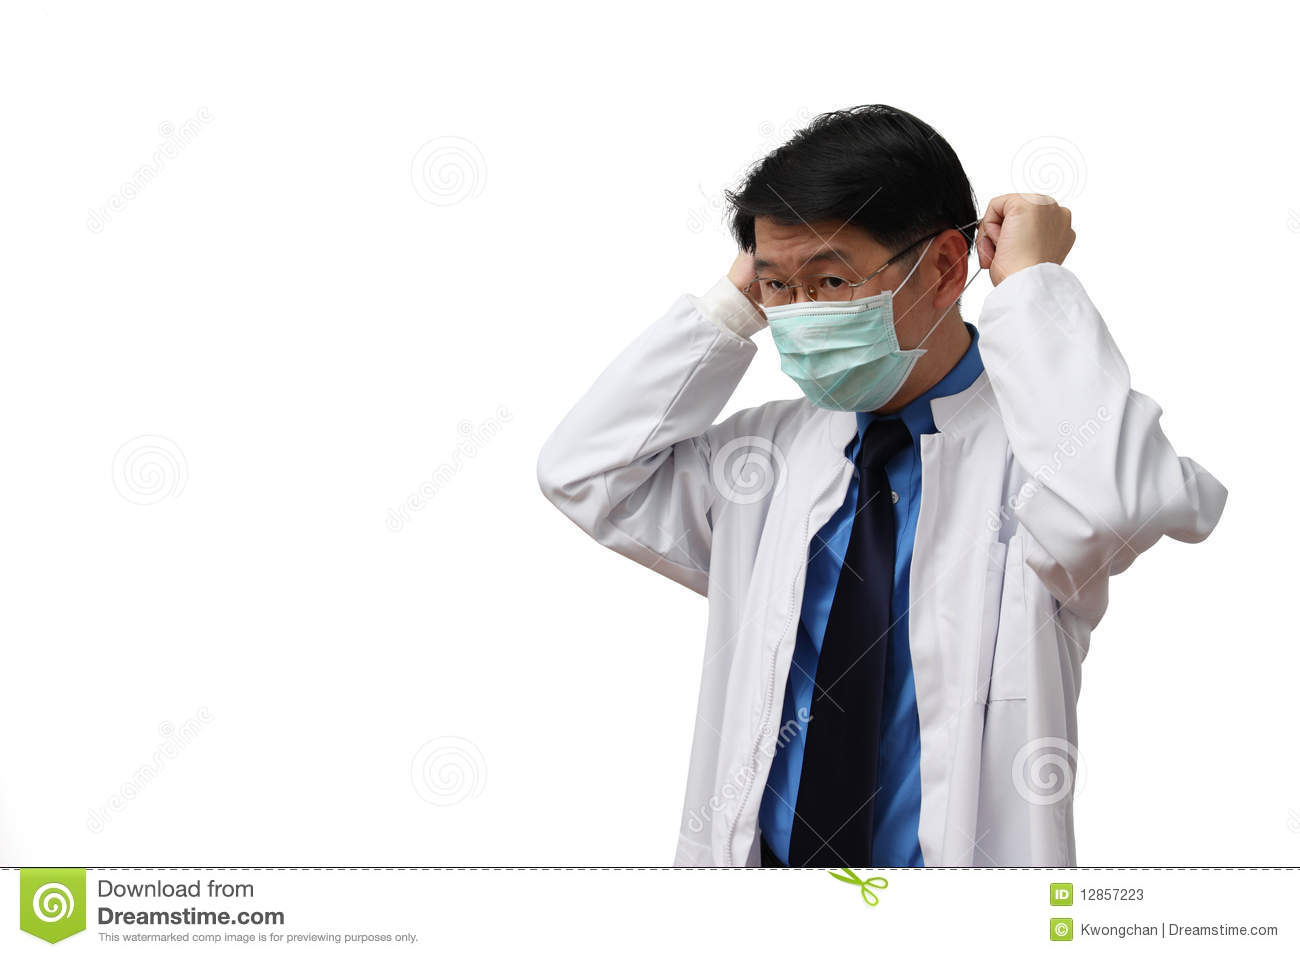mask: (760, 294, 923, 413)
